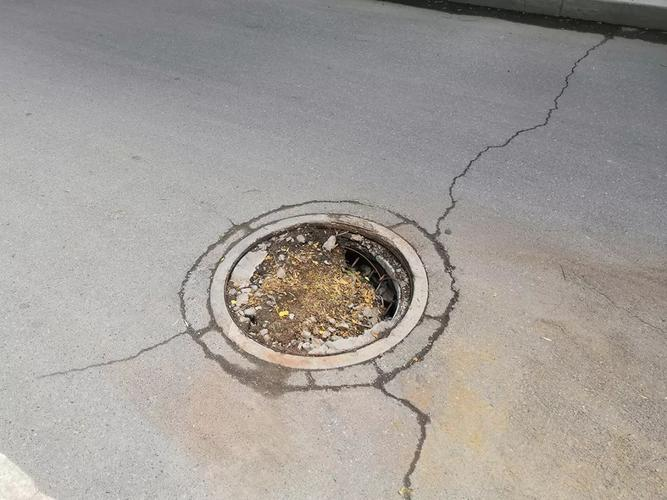broke: (188, 188, 472, 403)
